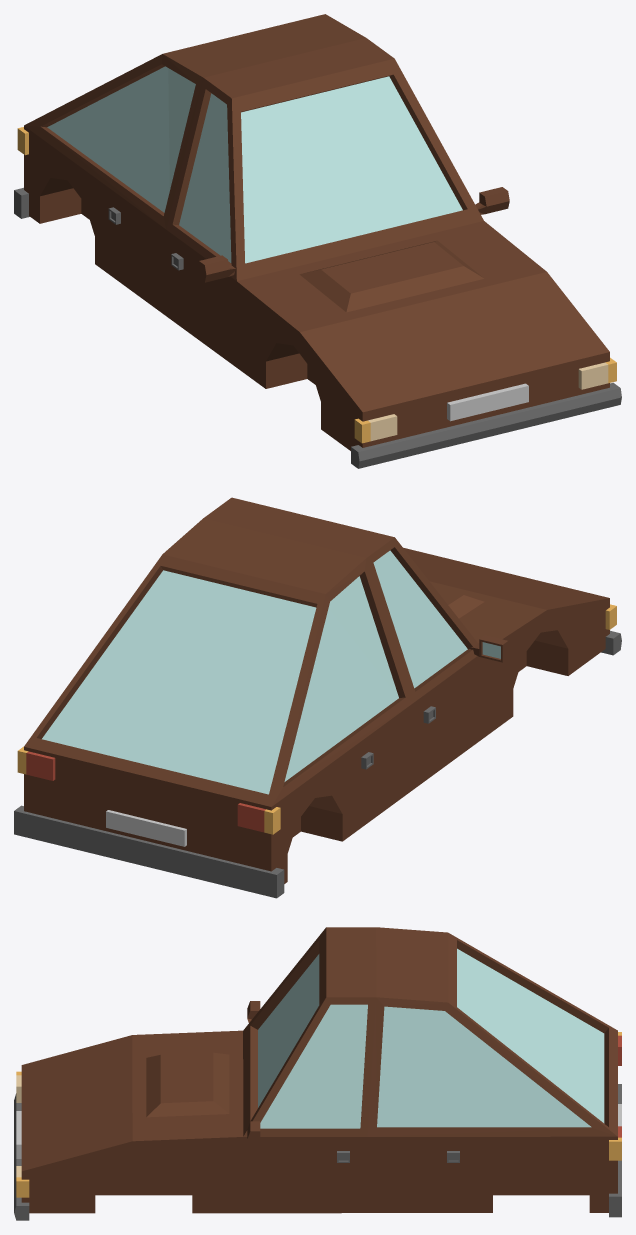
The model's file is Car_05.fbx.
The picture shows the model from 3 angles, top to bottom: view 1: azimuth 30°, elevation 25°; view 2: azimuth 150°, elevation 25°; view 3: azimuth 270°, elevation 25°; orthographic projection. The views are drawn at different scales.
Parts seen in each view (by area): view 1: Car_05; view 2: Car_05; view 3: Car_05.
Part boxes in pixels (x1,y1,x2,y2): Car_05: [14, 14, 621, 468]; Car_05: [14, 497, 621, 898]; Car_05: [14, 927, 621, 1220].
Size of the model in its own units: 197 by 142 by 388.
